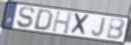B: (105, 18, 126, 41)
D: (32, 8, 55, 32)
H: (51, 10, 73, 35)
J: (91, 17, 107, 38)
S: (16, 6, 36, 29)
X: (69, 12, 91, 37)
